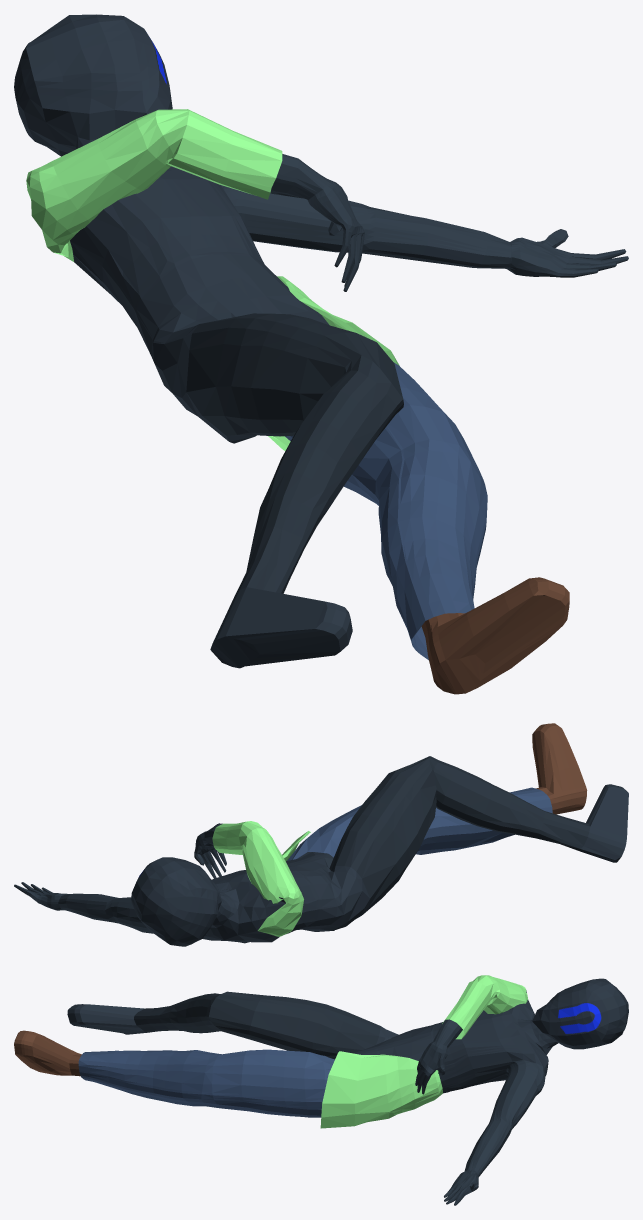
The model's file is Mar_Die_000015.obj.
The picture shows the model from 3 angles, top to bottom: view 1: azimuth 30°, elevation 25°; view 2: azimuth 150°, elevation 25°; view 3: azimuth 270°, elevation 25°; orthographic projection. The views are drawn at different scales.
Parts seen in each view (by area): view 1: Cube.000_Cube.001; view 2: Cube.000_Cube.001; view 3: Cube.000_Cube.001.
Part boxes in pixels (<box>): Cube.000_Cube.001: <box>14,14,628,694</box>; Cube.000_Cube.001: <box>14,723,628,946</box>; Cube.000_Cube.001: <box>14,975,628,1205</box>.
Size of the model in its own units: 2.73 by 0.9716 by 3.86.
